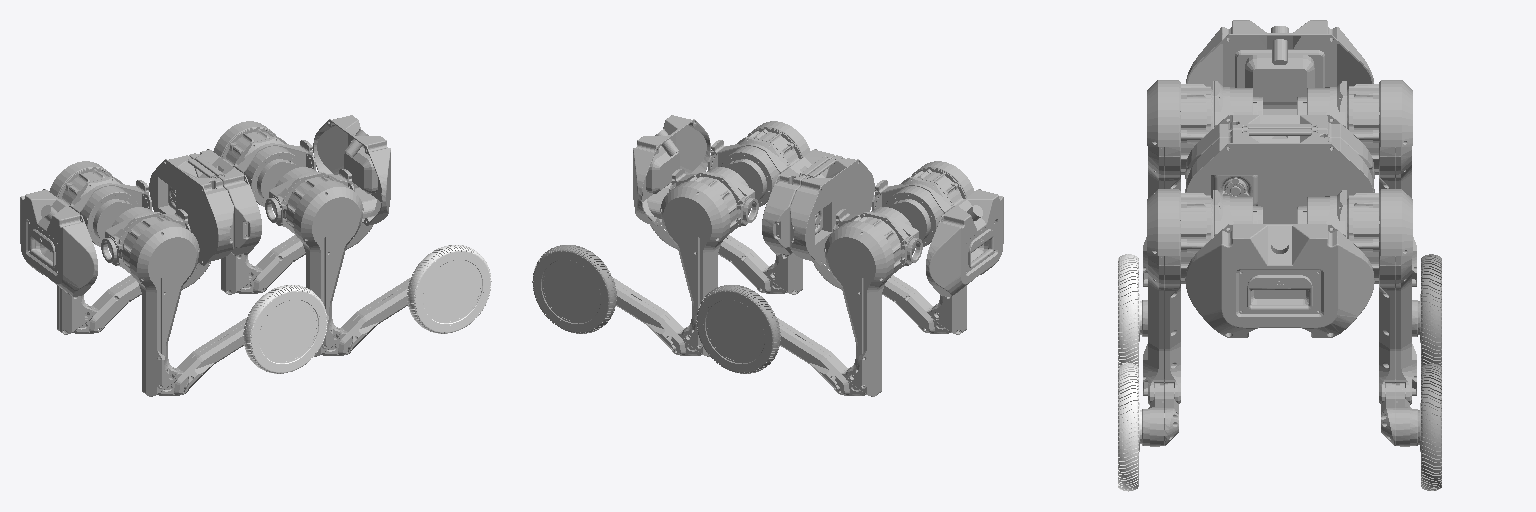
URDF robot description (d1_description):
<?xml version="1.0" ?>
<!-- =================================================================================== -->
<!-- |    This document was autogenerated by xacro from src/robot_descriptions/d1_description/xacro/robot.xacro | -->
<!-- |    EDITING THIS FILE BY HAND IS NOT RECOMMENDED                                 | -->
<!-- =================================================================================== -->
<robot name="d1_description">
  <link name="base_link">
    <visual>
      <origin rpy="0 0 0" xyz="0 0 0"/>
      <geometry>
        <box size="0.001 0.001 0.001"/>
      </geometry>
    </visual>
    <inertial>
      <mass value="0.001"/>
      <origin rpy="0 0 0" xyz="0 0 0"/>
      <inertia ixx="0.0001" ixy="0" ixz="0" iyy="0.0001" iyz="0" izz="0.0001"/>
    </inertial>
  </link>
  <link name="imu_link">
    <inertial>
      <mass value="0.001"/>
      <origin rpy="0 0 0" xyz="0 0 0"/>
      <inertia ixx="0.0001" ixy="0" ixz="0" iyy="0.0001" iyz="0" izz="0.0001"/>
    </inertial>
    <visual>
      <origin rpy="0 0 0" xyz="0 0 0"/>
      <geometry>
        <box size="0.001 0.001 0.001"/>
      </geometry>
      <material name="red"/>
    </visual>
    <collision>
      <origin rpy="0 0 0" xyz="0 0 0"/>
      <geometry>
        <box size=".001 .001 .001"/>
      </geometry>
    </collision>
  </link>
  <joint name="imu_joint" type="fixed">
    <parent link="base_link"/>
    <child link="imu_link"/>
    <origin rpy="0 0 0" xyz="0 0 0"/>
  </joint>
  <!-- Base link -->
  <link name="F_base_link">
    <inertial>
      <origin rpy="0 0 0" xyz="0.04005271 0.00019692 -0.02084955"/>
      <mass value="8.44614222"/>
      <inertia ixx="0.07256618" ixy="0.00023603" ixz="-0.00688763" iyy="0.11587953" iyz="3.472e-05" izz="0.11697399"/>
    </inertial>
    <visual>
      <origin rpy="0 0 0" xyz="0 0 0"/>
      <geometry>
        <mesh filename="package://d1_description/meshes/base_link.STL"/>
      </geometry>
      <material name="">
        <color rgba="0.75294 0.75294 0.75294 1"/>
      </material>
    </visual>
    <collision>
      <origin rpy="0 0 0" xyz="0 0 0"/>
      <geometry>
        <box size="0.275 0.15 0.175"/>
      </geometry>
    </collision>
    <collision>
      <origin rpy="0 0 0" xyz="0 0 -0.12"/>
      <geometry>
        <box size="0.31 0.12 0.06"/>
      </geometry>
    </collision>
  </link>
  <joint name="F_base_joint" type="fixed">
    <origin rpy="0 0 0" xyz="0.1875 0 0"/>
    <parent link="base_link"/>
    <child link="F_base_link"/>
  </joint>
  <!-- Funtion link -->
  <link name="F_funtion_link">
    <inertial>
      <origin rpy="0 0 0" xyz="0.01321944 0.0 0.00563897"/>
      <mass value="0.67772"/>
      <inertia ixx="0.0046602" ixy="-4.1631E-09" ixz="4.51E-05" iyy="0.0017478" iyz="8e-08" izz="0.0031524"/>
    </inertial>
    <visual>
      <origin rpy="0 0 0" xyz="0 0 0"/>
      <geometry>
        <mesh filename="package://d1_description/meshes/funtion_Link.STL"/>
      </geometry>
      <material name="">
        <color rgba="0.75294 0.75294 0.75294 1"/>
      </material>
    </visual>
    <collision>
      <origin rpy="0 0 0" xyz="0.008 0 0"/>
      <geometry>
        <box size="0.0495 0.15 0.175"/>
      </geometry>
    </collision>
  </link>
  <joint name="F_funtion_joint" type="fixed">
    <origin rpy="0 0 0" xyz="0.1545 0 0"/>
    <parent link="F_base_link"/>
    <child link="F_funtion_link"/>
    <axis xyz="0 0 0"/>
  </joint>
  <!-- Docking link -->
  <link name="F_docking_link">
    <inertial>
      <origin rpy="0 0 0" xyz="0.01527894 0.00855247 0.00284739"/>
      <mass value="2.20153411"/>
      <inertia ixx="0.01876158" ixy="0.00036494" ixz="6.869e-05" iyy="0.00631988" iyz="0.0001511" izz="0.01358894"/>
    </inertial>
    <visual>
      <origin rpy="0 0 0" xyz="0 0 0"/>
      <geometry>
        <mesh filename="package://d1_description/meshes/docking_Link.STL"/>
      </geometry>
      <material name="">
        <color rgba="0.75294 0.75294 0.75294 1"/>
      </material>
    </visual>
    <collision>
      <origin rpy="0 0 0" xyz="0.0065 0 0"/>
      <geometry>
        <box size="0.0851 0.15 0.175"/>
      </geometry>
    </collision>
  </link>
  <joint name="F_docking_joint" type="fixed">
    <origin rpy="0 0 0" xyz="-0.187 0 0"/>
    <parent link="F_base_link"/>
    <child link="F_docking_link"/>
    <axis xyz="0 0 0"/>
  </joint>
  <!-- Left hip link -->
  <link name="FL_hip">
    <inertial>
      <origin rpy="0 0 0" xyz="-0.01814352 -7.96e-06 -0.09365134"/>
      <mass value="1.69464273"/>
      <inertia ixx="0.00379266" ixy="-1.1e-07" ixz="-2.452e-05" iyy="0.00276068" iyz="3.09e-06" izz="0.00214485"/>
    </inertial>
    <visual>
      <origin rpy="0 0 0" xyz="0 0 0"/>
      <geometry>
        <mesh filename="package://d1_description/meshes/L_hip.STL"/>
      </geometry>
      <material name="">
        <color rgba="0.75294 0.75294 0.75294 1"/>
      </material>
    </visual>
  </link>
  <joint name="FL_hip_joint" type="revolute">
    <origin rpy="1.5708 0 1.5708" xyz="0.0945 0.0775 0"/>
    <parent link="F_base_link"/>
    <child link="FL_hip"/>
    <axis xyz="0 0 1"/>
    <dynamics damping="0" friction="0"/>
    <limit effort="80" lower="-0.7853981633974483" upper="0.7853981633974483" velocity="20"/>
  </joint>
  <!-- Left thigh link -->
  <link name="FL_thigh">
    <inertial>
      <origin rpy="0 0 0" xyz="0.02895091 0.00356333 -0.02811556"/>
      <mass value="2.55232244"/>
      <inertia ixx="0.00426053" ixy="-0.00133627" ixz="-0.00212533" iyy="0.01734276" iyz="-0.00029985" izz="0.01796394"/>
    </inertial>
    <visual>
      <origin rpy="0 0 0" xyz="0 0 0"/>
      <geometry>
        <mesh filename="package://d1_description/meshes/L_thigh.STL"/>
      </geometry>
      <material name="">
        <color rgba="0.75294 0.75294 0.75294 1"/>
      </material>
    </visual>
    <collision>
      <origin rpy="0 0 0.2617993877991494" xyz="0.06 0.02 0"/>
      <geometry>
        <box size="0.26 0.09 0.05"/>
      </geometry>
    </collision>
  </link>
  <joint name="FL_thigh_joint" type="revolute">
    <origin rpy="-1.5708 0 -1.5704" xyz="0.0905 0 -0.0945"/>
    <parent link="FL_hip"/>
    <child link="FL_thigh"/>
    <axis xyz="0 0 1"/>
    <dynamics damping="0" friction="0"/>
    <limit effort="80" lower="-1.8325957145940461" upper="3.4033920413889422" velocity="20"/>
  </joint>
  <!-- Left knee link -->
  <link name="FL_calf">
    <inertial>
      <origin rpy="0 0 0" xyz="0.12506267 0.00606587 0.00312587"/>
      <mass value="0.46345045"/>
      <inertia ixx="0.00023821" ixy="0.00034272" ixz="-0.00014416" iyy="0.00488539" iyz="3.83e-06" izz="0.00493944"/>
    </inertial>
    <visual>
      <origin rpy="0 0 0" xyz="0 0 0"/>
      <geometry>
        <mesh filename="package://d1_description/meshes/L_calf.STL"/>
      </geometry>
      <material name="">
        <color rgba="0.75294 0.75294 0.75294 1"/>
      </material>
    </visual>
    <collision>
      <origin rpy="0 0 -0.08" xyz="0.15 0.01 0"/>
      <geometry>
        <box size="0.24 0.04 0.05"/>
      </geometry>
    </collision>
  </link>
  <joint name="FL_calf_joint" type="revolute">
    <origin rpy="-0.0 0.0 0.0" xyz="0.25 0 0"/>
    <parent link="FL_thigh"/>
    <child link="FL_calf"/>
    <axis xyz="0 0 1"/>
    <dynamics damping="0" friction="0"/>
    <limit effort="80" lower="-2.775" upper="-0.855" velocity="20"/>
  </joint>
  <!-- Left wheel link -->
  <link name="FL_foot">
    <inertial>
      <origin rpy="0 0 0" xyz="-2.82e-06 0.0 -0.00091845"/>
      <mass value="1.6631"/>
      <inertia ixx="0.00397025" ixy="2.224e-05" ixz="2.1e-07" iyy="0.00395149" iyz="2e-07" izz="0.00760863"/>
    </inertial>
    <visual>
      <origin rpy="0 0 0" xyz="0 0 0"/>
      <geometry>
        <mesh filename="package://d1_description/meshes/L_foot.STL"/>
      </geometry>
      <material name="">
        <color rgba="0.698039215686274 0.698039215686274 0.698039215686274 1"/>
      </material>
    </visual>
    <collision>
      <origin rpy="0 0 0" xyz="0 0 0.0"/>
      <geometry>
        <cylinder length="0.04" radius="0.087"/>
      </geometry>
    </collision>
  </link>
  <joint name="FL_foot_joint" type="revolute">
    <origin rpy="0 0 0" xyz="0.25 0 0.052166"/>
    <parent link="FL_calf"/>
    <child link="FL_foot"/>
    <axis xyz="0 0 1"/>
    <dynamics damping="0" friction="0"/>
    <limit effort="12" lower="-1000000.0" upper="1000000.0" velocity="30.0"/>
  </joint>
  <!-- Right hip link -->
  <link name="FR_hip">
    <inertial>
      <origin rpy="0 0 0" xyz="0.01814352 -8e-06 -0.09365134"/>
      <mass value="1.69464279"/>
      <inertia ixx="0.00379266" ixy="1.1e-07" ixz="2.452e-05" iyy="0.00276068" iyz="3.09e-06" izz="0.00214485"/>
    </inertial>
    <visual>
      <origin rpy="0 0 0" xyz="0 0 0"/>
      <geometry>
        <mesh filename="package://d1_description/meshes/R_hip.STL"/>
      </geometry>
      <material name="">
        <color rgba="0.75294 0.75294 0.75294 1"/>
      </material>
    </visual>
  </link>
  <joint name="FR_hip_joint" type="revolute">
    <origin rpy="1.5708 0 1.5708" xyz="0.0945 -0.0775 0"/>
    <parent link="F_base_link"/>
    <child link="FR_hip"/>
    <axis xyz="0 0 1"/>
    <dynamics damping="0" friction="0"/>
    <limit effort="80" lower="-0.7853981633974483" upper="0.7853981633974483" velocity="20"/>
  </joint>
  <!-- Right thigh link -->
  <link name="FR_thigh">
    <inertial>
      <origin rpy="0 0 0" xyz="0.0291816 0.00370278 0.02811568"/>
      <mass value="2.55232278"/>
      <inertia ixx="0.00427405" ixy="-0.00133225" ixz="0.00213801" iyy="0.01729241" iyz="0.00030751" izz="0.01792714"/>
    </inertial>
    <visual>
      <origin rpy="0 0 0" xyz="0 0 0"/>
      <geometry>
        <mesh filename="package://d1_description/meshes/R_thigh.STL"/>
      </geometry>
      <material name="">
        <color rgba="0.752941176470588 0.752941176470588 0.752941176470588 1"/>
      </material>
    </visual>
    <collision>
      <origin rpy="0 0 0.2617993877991494" xyz="0.06 0.02 0"/>
      <geometry>
        <box size="0.26 0.09 0.05"/>
      </geometry>
    </collision>
  </link>
  <joint name="FR_thigh_joint" type="revolute">
    <origin rpy="-1.5708 0 -1.5712" xyz="-0.0905 0 -0.0945"/>
    <parent link="FR_hip"/>
    <child link="FR_thigh"/>
    <axis xyz="0 0 1"/>
    <dynamics damping="0" friction="0"/>
    <limit effort="80" lower="-1.8325957145940461" upper="3.4033920413889422" velocity="20"/>
  </joint>
  <!-- Right knee link -->
  <link name="FR_calf">
    <inertial>
      <origin rpy="0 0 0" xyz="0.12506359 0.00606606 -0.0031258"/>
      <mass value="0.46345511"/>
      <inertia ixx="0.00023821" ixy="0.00034271" ixz="0.00014415" iyy="0.00488543" iyz="-3.83e-06" izz="0.00493948"/>
    </inertial>
    <visual>
      <origin rpy="0 0 0" xyz="0 0 0"/>
      <geometry>
        <mesh filename="package://d1_description/meshes/R_calf.STL"/>
      </geometry>
      <material name="">
        <color rgba="0.752941176470588 0.752941176470588 0.752941176470588 1"/>
      </material>
    </visual>
    <collision>
      <origin rpy="0 0 -0.08" xyz="0.15 0.01 0"/>
      <geometry>
        <box size="0.24 0.04 0.05"/>
      </geometry>
    </collision>
  </link>
  <joint name="FR_calf_joint" type="revolute">
    <origin rpy="0.0 0.0 0.0" xyz="0.25 0 0"/>
    <parent link="FR_thigh"/>
    <child link="FR_calf"/>
    <axis xyz="0 0 1"/>
    <dynamics damping="0" friction="0"/>
    <limit effort="80" lower="-2.775" upper="-0.855" velocity="20"/>
  </joint>
  <!-- Right wheel link -->
  <link name="FR_foot">
    <inertial>
      <origin rpy="0 0 0" xyz="-2.78e-06 0.0 0.00091859"/>
      <mass value="1.6631"/>
      <inertia ixx="0.00397018" ixy="2.222e-05" ixz="-2.1e-07" iyy="0.00395159" iyz="-2e-07" izz="0.00760867"/>
    </inertial>
    <visual>
      <origin rpy="0 0 0" xyz="0 0 0"/>
      <geometry>
        <mesh filename="package://d1_description/meshes/R_foot.STL"/>
      </geometry>
      <material name="">
        <color rgba="1 1 1 1"/>
      </material>
    </visual>
    <collision>
      <origin rpy="0 0 0" xyz="0 0 -0.0"/>
      <geometry>
        <cylinder length="0.04" radius="0.087"/>
      </geometry>
    </collision>
  </link>
  <joint name="FR_foot_joint" type="revolute">
    <origin rpy="0 0 2.3965" xyz="0.25 0 -0.052166"/>
    <parent link="FR_calf"/>
    <child link="FR_foot"/>
    <axis xyz="0 0 1"/>
    <dynamics damping="0" friction="0"/>
    <limit effort="12" lower="-1000000.0" upper="1000000.0" velocity="30.0"/>
  </joint>
  <!-- Base link -->
  <link name="R_base_link">
    <inertial>
      <origin rpy="0 0 0" xyz="0.04005271 0.00019692 -0.02084955"/>
      <mass value="8.44614222"/>
      <inertia ixx="0.07256618" ixy="0.00023603" ixz="-0.00688763" iyy="0.11587953" iyz="3.472e-05" izz="0.11697399"/>
    </inertial>
    <visual>
      <origin rpy="0 0 0" xyz="0 0 0"/>
      <geometry>
        <mesh filename="package://d1_description/meshes/base_link.STL"/>
      </geometry>
      <material name="">
        <color rgba="0.75294 0.75294 0.75294 1"/>
      </material>
    </visual>
    <collision>
      <origin rpy="0 0 0" xyz="0 0 0"/>
      <geometry>
        <box size="0.275 0.15 0.175"/>
      </geometry>
    </collision>
    <collision>
      <origin rpy="0 0 0" xyz="0 0 -0.12"/>
      <geometry>
        <box size="0.31 0.12 0.06"/>
      </geometry>
    </collision>
  </link>
  <joint name="R_base_joint" type="fixed">
    <origin rpy="0 0 0" xyz="-0.1875 0 0"/>
    <parent link="base_link"/>
    <child link="R_base_link"/>
  </joint>
  <!-- Funtion link -->
  <link name="R_funtion_link">
    <inertial>
      <origin rpy="0 0 0" xyz="0.01321944 0.0 0.00563897"/>
      <mass value="0.67772"/>
      <inertia ixx="0.0046602" ixy="-4.1631E-09" ixz="4.51E-05" iyy="0.0017478" iyz="8e-08" izz="0.0031524"/>
    </inertial>
    <visual>
      <origin rpy="0 0 0" xyz="0 0 0"/>
      <geometry>
        <mesh filename="package://d1_description/meshes/funtion_Link.STL"/>
      </geometry>
      <material name="">
        <color rgba="0.75294 0.75294 0.75294 1"/>
      </material>
    </visual>
    <collision>
      <origin rpy="0 0 0" xyz="0.008 0 0"/>
      <geometry>
        <box size="0.0495 0.15 0.175"/>
      </geometry>
    </collision>
  </link>
  <joint name="R_funtion_joint" type="fixed">
    <origin rpy="0 0 3.14159" xyz="-0.1545 0 0"/>
    <parent link="R_base_link"/>
    <child link="R_funtion_link"/>
    <axis xyz="0 0 0"/>
  </joint>
  <!-- Docking link -->
  <link name="R_docking_link">
    <inertial>
      <origin rpy="0 0 0" xyz="0.01527894 0.00855247 0.00284739"/>
      <mass value="2.20153411"/>
      <inertia ixx="0.01876158" ixy="0.00036494" ixz="6.869e-05" iyy="0.00631988" iyz="0.0001511" izz="0.01358894"/>
    </inertial>
    <visual>
      <origin rpy="0 0 0" xyz="0 0 0"/>
      <geometry>
        <mesh filename="package://d1_description/meshes/docking_Link.STL"/>
      </geometry>
      <material name="">
        <color rgba="0.75294 0.75294 0.75294 1"/>
      </material>
    </visual>
    <collision>
      <origin rpy="0 0 0" xyz="0.0065 0 0"/>
      <geometry>
        <box size="0.0851 0.15 0.175"/>
      </geometry>
    </collision>
  </link>
  <joint name="R_docking_joint" type="fixed">
    <origin rpy="0 0 3.14159" xyz="0.187 0 0"/>
    <parent link="R_base_link"/>
    <child link="R_docking_link"/>
    <axis xyz="0 0 0"/>
  </joint>
  <!-- Left hip link -->
  <link name="RL_hip">
    <inertial>
      <origin rpy="0 0 0" xyz="-0.01814352 -7.96e-06 -0.09365134"/>
      <mass value="1.69464273"/>
      <inertia ixx="0.00379266" ixy="-1.1e-07" ixz="-2.452e-05" iyy="0.00276068" iyz="3.09e-06" izz="0.00214485"/>
    </inertial>
    <visual>
      <origin rpy="0 0 0" xyz="0 0 0"/>
      <geometry>
        <mesh filename="package://d1_description/meshes/L_hip.STL"/>
      </geometry>
      <material name="">
        <color rgba="0.75294 0.75294 0.75294 1"/>
      </material>
    </visual>
  </link>
  <joint name="RL_hip_joint" type="revolute">
    <origin rpy="1.5708 0 1.5708" xyz="0.0945 0.0775 0"/>
    <parent link="R_base_link"/>
    <child link="RL_hip"/>
    <axis xyz="0 0 1"/>
    <dynamics damping="0" friction="0"/>
    <limit effort="80" lower="-0.7853981633974483" upper="0.7853981633974483" velocity="20"/>
  </joint>
  <!-- Left thigh link -->
  <link name="RL_thigh">
    <inertial>
      <origin rpy="0 0 0" xyz="0.02895091 0.00356333 -0.02811556"/>
      <mass value="2.55232244"/>
      <inertia ixx="0.00426053" ixy="-0.00133627" ixz="-0.00212533" iyy="0.01734276" iyz="-0.00029985" izz="0.01796394"/>
    </inertial>
    <visual>
      <origin rpy="0 0 0" xyz="0 0 0"/>
      <geometry>
        <mesh filename="package://d1_description/meshes/L_thigh.STL"/>
      </geometry>
      <material name="">
        <color rgba="0.75294 0.75294 0.75294 1"/>
      </material>
    </visual>
    <collision>
      <origin rpy="0 0 0.2617993877991494" xyz="0.06 0.02 0"/>
      <geometry>
        <box size="0.26 0.09 0.05"/>
      </geometry>
    </collision>
  </link>
  <joint name="RL_thigh_joint" type="revolute">
    <origin rpy="-1.5708 0 -1.5704" xyz="0.0905 0 -0.0945"/>
    <parent link="RL_hip"/>
    <child link="RL_thigh"/>
    <axis xyz="0 0 1"/>
    <dynamics damping="0" friction="0"/>
    <limit effort="80" lower="-1.8325957145940461" upper="3.4033920413889422" velocity="20"/>
  </joint>
  <!-- Left knee link -->
  <link name="RL_calf">
    <inertial>
      <origin rpy="0 0 0" xyz="0.12506267 0.00606587 0.00312587"/>
      <mass value="0.46345045"/>
      <inertia ixx="0.00023821" ixy="0.00034272" ixz="-0.00014416" iyy="0.00488539" iyz="3.83e-06" izz="0.00493944"/>
    </inertial>
    <visual>
      <origin rpy="0 0 0" xyz="0 0 0"/>
      <geometry>
        <mesh filename="package://d1_description/meshes/L_calf.STL"/>
      </geometry>
      <material name="">
        <color rgba="0.75294 0.75294 0.75294 1"/>
      </material>
    </visual>
    <collision>
      <origin rpy="0 0 -0.08" xyz="0.15 0.01 0"/>
      <geometry>
        <box size="0.24 0.04 0.05"/>
      </geometry>
    </collision>
  </link>
  <joint name="RL_calf_joint" type="revolute">
    <origin rpy="-0.0 0.0 0.0" xyz="0.25 0 0"/>
    <parent link="RL_thigh"/>
    <child link="RL_calf"/>
    <axis xyz="0 0 1"/>
    <dynamics damping="0" friction="0"/>
    <limit effort="80" lower="-2.775" upper="-0.855" velocity="20"/>
  </joint>
  <!-- Left wheel link -->
  <link name="RL_foot">
    <inertial>
      <origin rpy="0 0 0" xyz="-2.82e-06 0.0 -0.00091845"/>
      <mass value="1.6631"/>
      <inertia ixx="0.00397025" ixy="2.224e-05" ixz="2.1e-07" iyy="0.00395149" iyz="2e-07" izz="0.00760863"/>
    </inertial>
    <visual>
      <origin rpy="0 0 0" xyz="0 0 0"/>
      <geometry>
        <mesh filename="package://d1_description/meshes/L_foot.STL"/>
      </geometry>
      <material name="">
        <color rgba="0.698039215686274 0.698039215686274 0.698039215686274 1"/>
      </material>
    </visual>
    <collision>
      <origin rpy="0 0 0" xyz="0 0 0.0"/>
      <geometry>
        <cylinder length="0.04" radius="0.087"/>
      </geometry>
    </collision>
  </link>
  <joint name="RL_foot_joint" type="revolute">
    <origin rpy="0 0 0" xyz="0.25 0 0.052166"/>
    <parent link="RL_calf"/>
    <child link="RL_foot"/>
    <axis xyz="0 0 1"/>
    <dynamics damping="0" friction="0"/>
    <limit effort="12" lower="-1000000.0" upper="1000000.0" velocity="30.0"/>
  </joint>
  <!-- Right hip link -->
  <link name="RR_hip">
    <inertial>
      <origin rpy="0 0 0" xyz="0.01814352 -8e-06 -0.09365134"/>
      <mass value="1.69464279"/>
      <inertia ixx="0.00379266" ixy="1.1e-07" ixz="2.452e-05" iyy="0.00276068" iyz="3.09e-06" izz="0.00214485"/>
    </inertial>
    <visual>
      <origin rpy="0 0 0" xyz="0 0 0"/>
      <geometry>
        <mesh filename="package://d1_description/meshes/R_hip.STL"/>
      </geometry>
      <material name="">
        <color rgba="0.75294 0.75294 0.75294 1"/>
      </material>
    </visual>
  </link>
  <joint name="RR_hip_joint" type="revolute">
    <origin rpy="1.5708 0 1.5708" xyz="0.0945 -0.0775 0"/>
    <parent link="R_base_link"/>
    <child link="RR_hip"/>
    <axis xyz="0 0 1"/>
    <dynamics damping="0" friction="0"/>
    <limit effort="80" lower="-0.7853981633974483" upper="0.7853981633974483" velocity="20"/>
  </joint>
  <!-- Right thigh link -->
  <link name="RR_thigh">
    <inertial>
      <origin rpy="0 0 0" xyz="0.0291816 0.00370278 0.02811568"/>
      <mass value="2.55232278"/>
      <inertia ixx="0.00427405" ixy="-0.00133225" ixz="0.00213801" iyy="0.01729241" iyz="0.00030751" izz="0.01792714"/>
    </inertial>
    <visual>
      <origin rpy="0 0 0" xyz="0 0 0"/>
      <geometry>
        <mesh filename="package://d1_description/meshes/R_thigh.STL"/>
      </geometry>
      <material name="">
        <color rgba="0.752941176470588 0.752941176470588 0.752941176470588 1"/>
      </material>
    </visual>
    <collision>
      <origin rpy="0 0 0.2617993877991494" xyz="0.06 0.02 0"/>
      <geometry>
        <box size="0.26 0.09 0.05"/>
      </geometry>
    </collision>
  </link>
  <joint name="RR_thigh_joint" type="revolute">
    <origin rpy="-1.5708 0 -1.5712" xyz="-0.0905 0 -0.0945"/>
    <parent link="RR_hip"/>
    <child link="RR_thigh"/>
    <axis xyz="0 0 1"/>
    <dynamics damping="0" friction="0"/>
    <limit effort="80" lower="-1.8325957145940461" upper="3.4033920413889422" velocity="20"/>
  </joint>
  <!-- Right knee link -->
  <link name="RR_calf">
    <inertial>
      <origin rpy="0 0 0" xyz="0.12506359 0.00606606 -0.0031258"/>
      <mass value="0.46345511"/>
      <inertia ixx="0.00023821" ixy="0.00034271" ixz="0.00014415" iyy="0.00488543" iyz="-3.83e-06" izz="0.00493948"/>
    </inertial>
    <visual>
      <origin rpy="0 0 0" xyz="0 0 0"/>
      <geometry>
        <mesh filename="package://d1_description/meshes/R_calf.STL"/>
      </geometry>
      <material name="">
        <color rgba="0.752941176470588 0.752941176470588 0.752941176470588 1"/>
      </material>
    </visual>
    <collision>
      <origin rpy="0 0 -0.08" xyz="0.15 0.01 0"/>
      <geometry>
        <box size="0.24 0.04 0.05"/>
      </geometry>
    </collision>
  </link>
  <joint name="RR_calf_joint" type="revolute">
    <origin rpy="0.0 0.0 0.0" xyz="0.25 0 0"/>
    <parent link="RR_thigh"/>
    <child link="RR_calf"/>
    <axis xyz="0 0 1"/>
    <dynamics damping="0" friction="0"/>
    <limit effort="80" lower="-2.775" upper="-0.855" velocity="20"/>
  </joint>
  <!-- Right wheel link -->
  <link name="RR_foot">
    <inertial>
      <origin rpy="0 0 0" xyz="-2.78e-06 0.0 0.00091859"/>
      <mass value="1.6631"/>
      <inertia ixx="0.00397018" ixy="2.222e-05" ixz="-2.1e-07" iyy="0.00395159" iyz="-2e-07" izz="0.00760867"/>
    </inertial>
    <visual>
      <origin rpy="0 0 0" xyz="0 0 0"/>
      <geometry>
        <mesh filename="package://d1_description/meshes/R_foot.STL"/>
      </geometry>
      <material name="">
        <color rgba="1 1 1 1"/>
      </material>
    </visual>
    <collision>
      <origin rpy="0 0 0" xyz="0 0 -0.0"/>
      <geometry>
        <cylinder length="0.04" radius="0.087"/>
      </geometry>
    </collision>
  </link>
  <joint name="RR_foot_joint" type="revolute">
    <origin rpy="0 0 2.3965" xyz="0.25 0 -0.052166"/>
    <parent link="RR_calf"/>
    <child link="RR_foot"/>
    <axis xyz="0 0 1"/>
    <dynamics damping="0" friction="0"/>
    <limit effort="12" lower="-1000000.0" upper="1000000.0" velocity="30.0"/>
  </joint>
</robot>

--- What the picture shows (computed from the rendered views, not written in the file) ---
Views: 3 orthographic renders of the robot side by side, from view 1: azimuth 30°, elevation 25°; view 2: azimuth 150°, elevation 25°; view 3: azimuth 270°, elevation 25°.
Robot: d1_description — 24 links, 23 joints (16 revolute, 7 fixed); root link base_link; default pose: joints at zero except 4 at the middle of their limits (FL_calf_joint = -1.81, FR_calf_joint = -1.81, RL_calf_joint = -1.81, RR_calf_joint = -1.81).
Visible links, largest first — view 1: RR_thigh, FR_thigh, R_funtion_link, RR_foot, FR_foot, R_docking_link, F_funtion_link, RL_hip, FL_hip, F_docking_link, RL_thigh, FL_thigh (+6 smaller); view 2: RL_thigh, FL_thigh, R_funtion_link, RL_foot, FL_foot, R_docking_link, F_funtion_link, RR_hip, FR_hip, F_docking_link, RR_thigh, FR_thigh (+6 smaller); view 3: F_funtion_link, F_docking_link, R_funtion_link, FL_thigh, FR_thigh, RL_thigh, RR_thigh, R_docking_link, FR_foot, FL_foot, RL_foot, RR_foot (+6 smaller).
Link boxes in pixels (x1,y1,x2,y2): RR_thigh: [122, 215, 199, 396]; FR_thigh: [286, 175, 363, 356]; R_funtion_link: [20, 189, 97, 297]; RR_foot: [243, 285, 327, 373]; FR_foot: [407, 245, 491, 333]; R_docking_link: [149, 155, 233, 265]; F_funtion_link: [313, 115, 390, 225]; RL_hip: [69, 177, 151, 246]; FL_hip: [233, 137, 315, 206]; F_docking_link: [172, 149, 261, 255]; RL_thigh: [49, 161, 122, 334]; FL_thigh: [213, 121, 286, 294]; RL_thigh: [824, 215, 901, 396]; FL_thigh: [660, 175, 737, 356]; R_funtion_link: [926, 189, 1003, 297]; RL_foot: [696, 285, 780, 373]; FL_foot: [532, 245, 616, 333]; R_docking_link: [790, 155, 874, 265]; F_funtion_link: [633, 115, 710, 225]; RR_hip: [872, 177, 954, 246]; FR_hip: [708, 137, 790, 206]; F_docking_link: [762, 149, 834, 255]; RR_thigh: [901, 161, 974, 334]; FR_thigh: [737, 121, 810, 294]; F_funtion_link: [1185, 224, 1374, 337]; F_docking_link: [1185, 129, 1374, 223]; R_funtion_link: [1186, 20, 1373, 114]; FL_thigh: [1347, 189, 1416, 404]; FR_thigh: [1143, 189, 1212, 404]; RL_thigh: [1347, 80, 1416, 286]; RR_thigh: [1143, 80, 1212, 286]; R_docking_link: [1185, 115, 1374, 195]; FR_foot: [1118, 363, 1141, 491]; FL_foot: [1418, 363, 1441, 490]; RL_foot: [1418, 254, 1441, 367]; RR_foot: [1118, 254, 1141, 366].
Bounding box of the posed robot: 0.8977 × 0.4702 × 0.3897 m (x, y, z).
Meshes: 11 distinct files referenced, 20 mesh visuals loaded (10 binary STL); not drawn: 2 (reference not matched to a file when rendering).